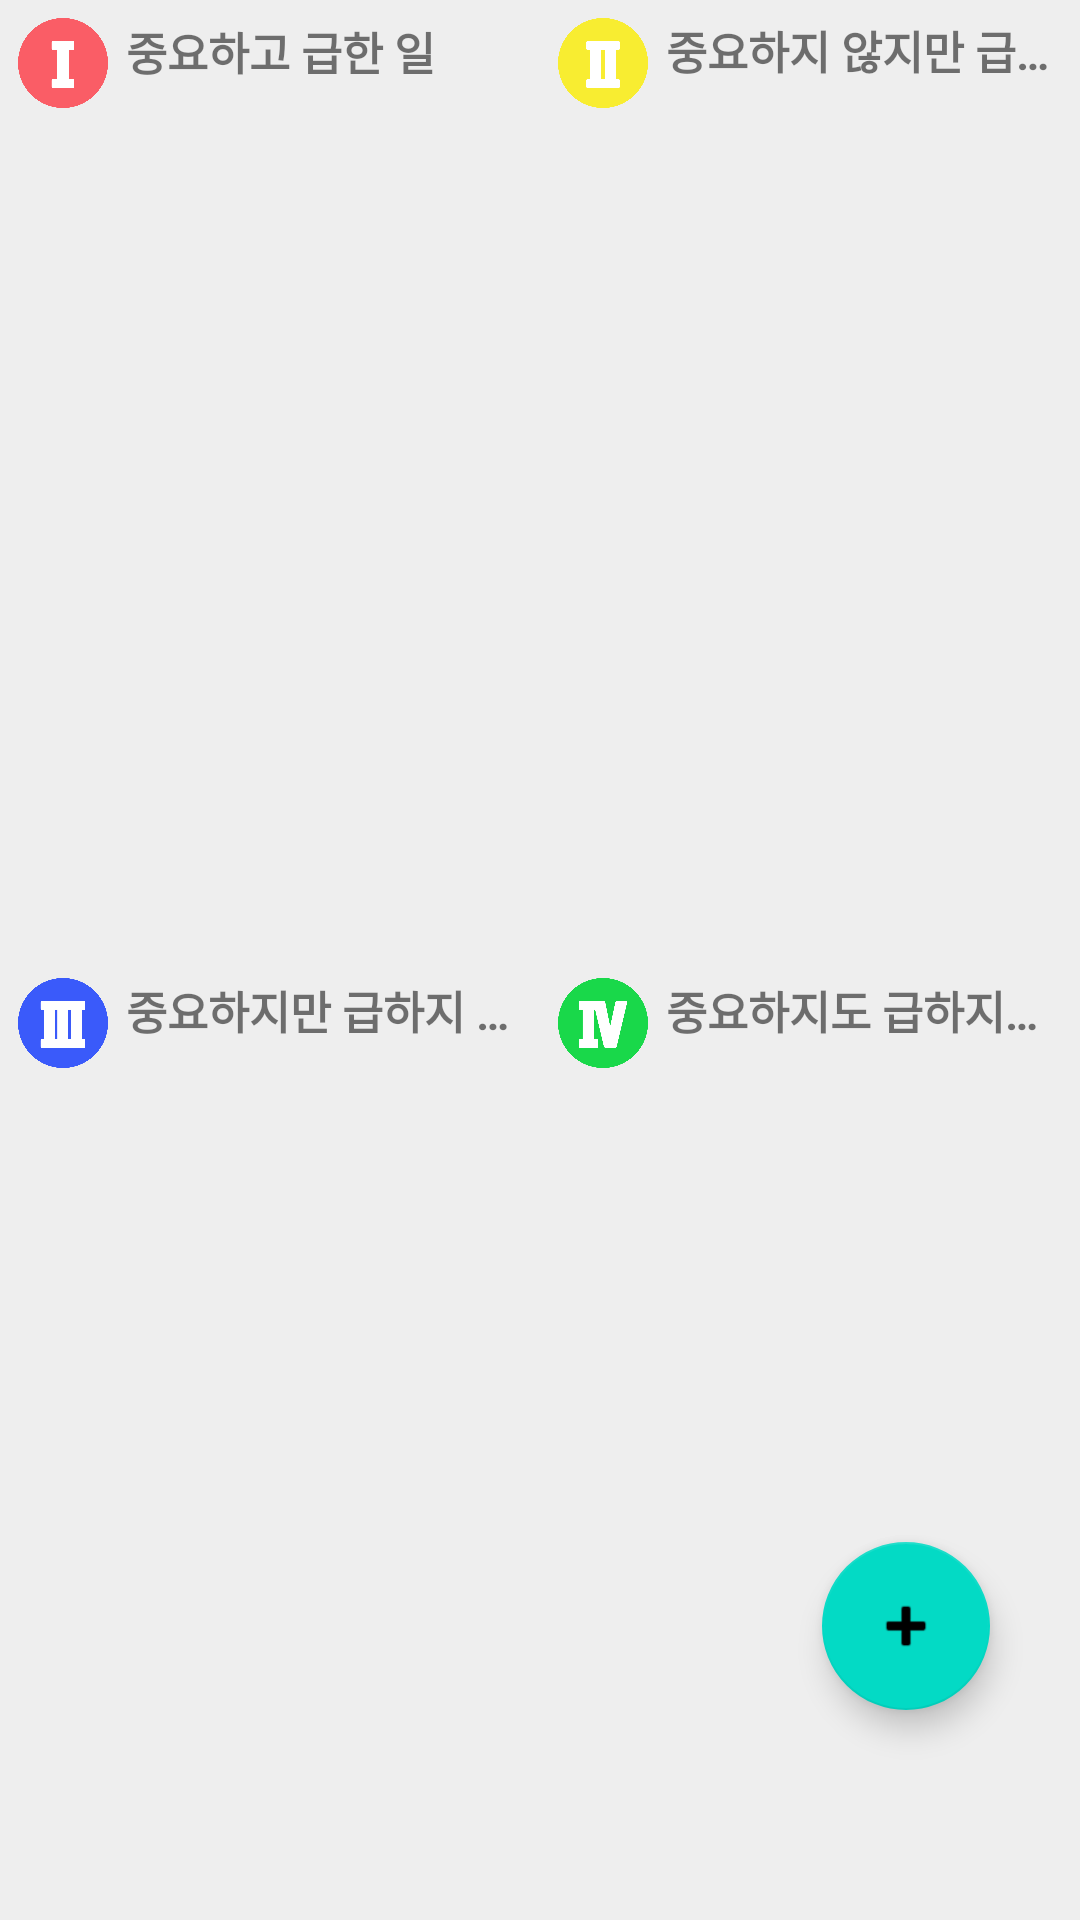

Point at icon controls on the screen. Image size 1080 x 1920, points as (x,y).
add: (906,1626)
number: (63,63), (603,63), (63,1023), (603,1023)
